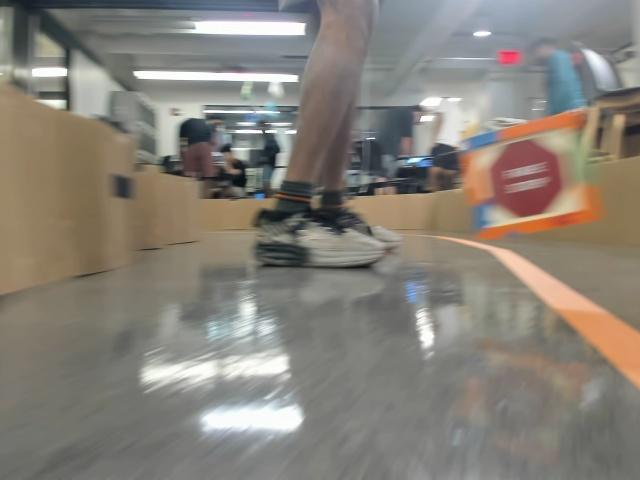Fake Stop: (484, 149, 553, 222)
